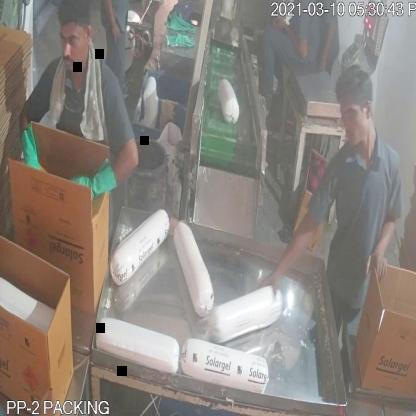no_glove: (258, 194, 324, 299), (359, 200, 406, 290), (96, 0, 124, 51)
